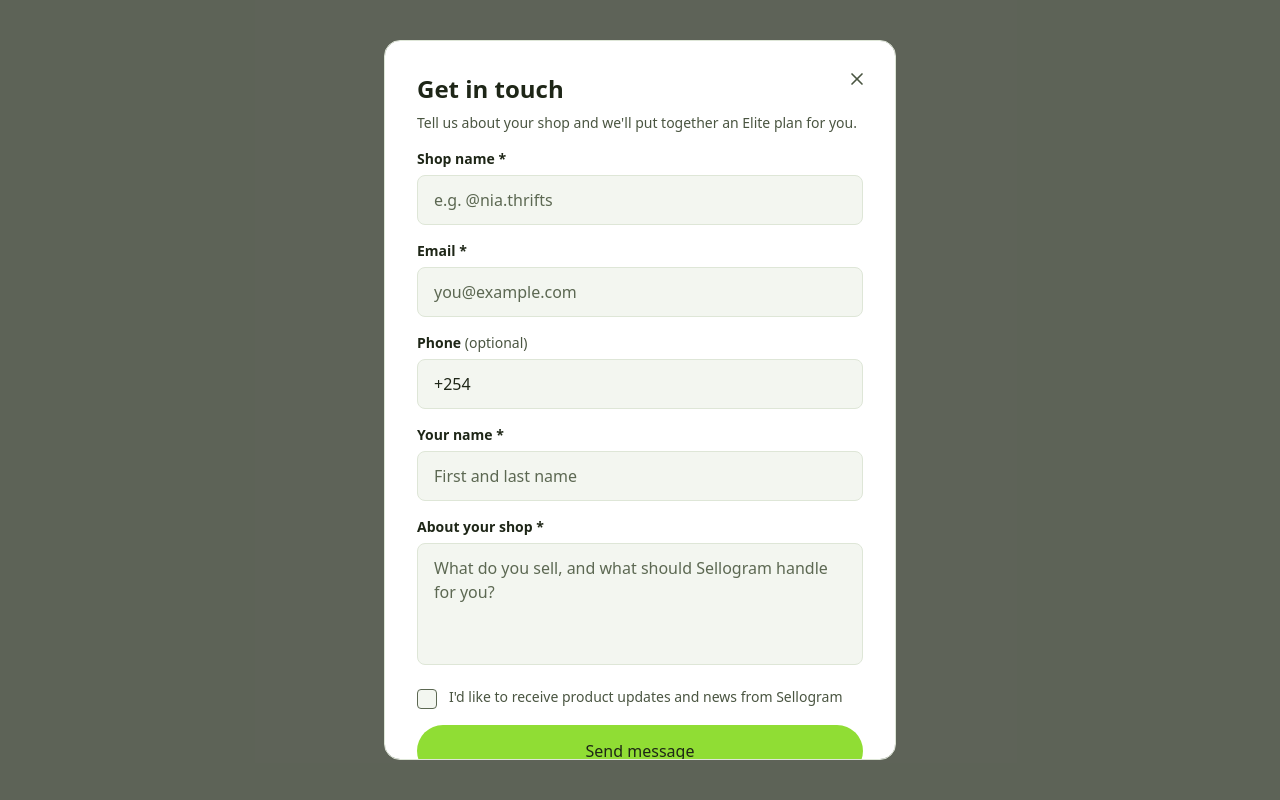
Test case: EliteContactModal › submits the inquiry and moves focus to the confirmation heading on success
Type "Nia Thrifts" into the field labelled "Shop name *" at (640, 200), box x1=417 y1=175 x2=863 y2=225
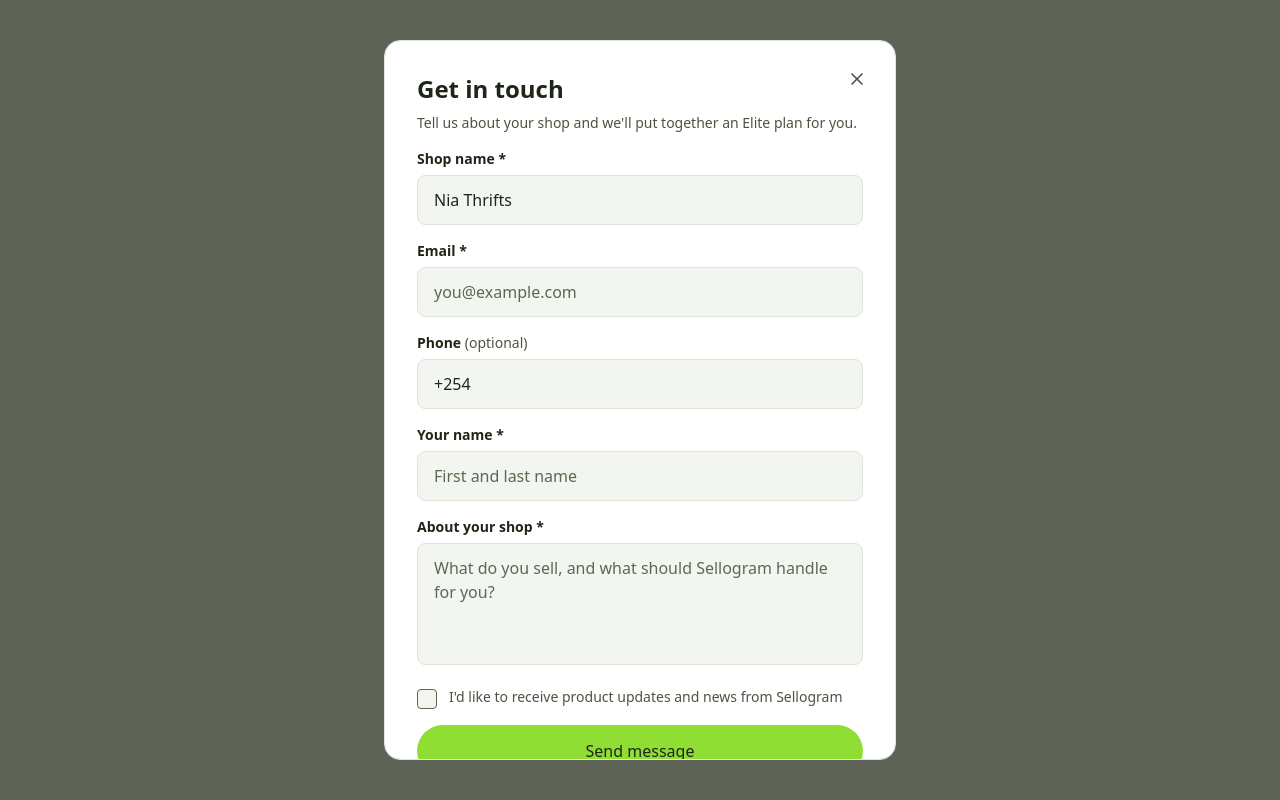
Type "nia@example.com" into the field labelled "Email *" at (640, 292), box x1=417 y1=267 x2=863 y2=317
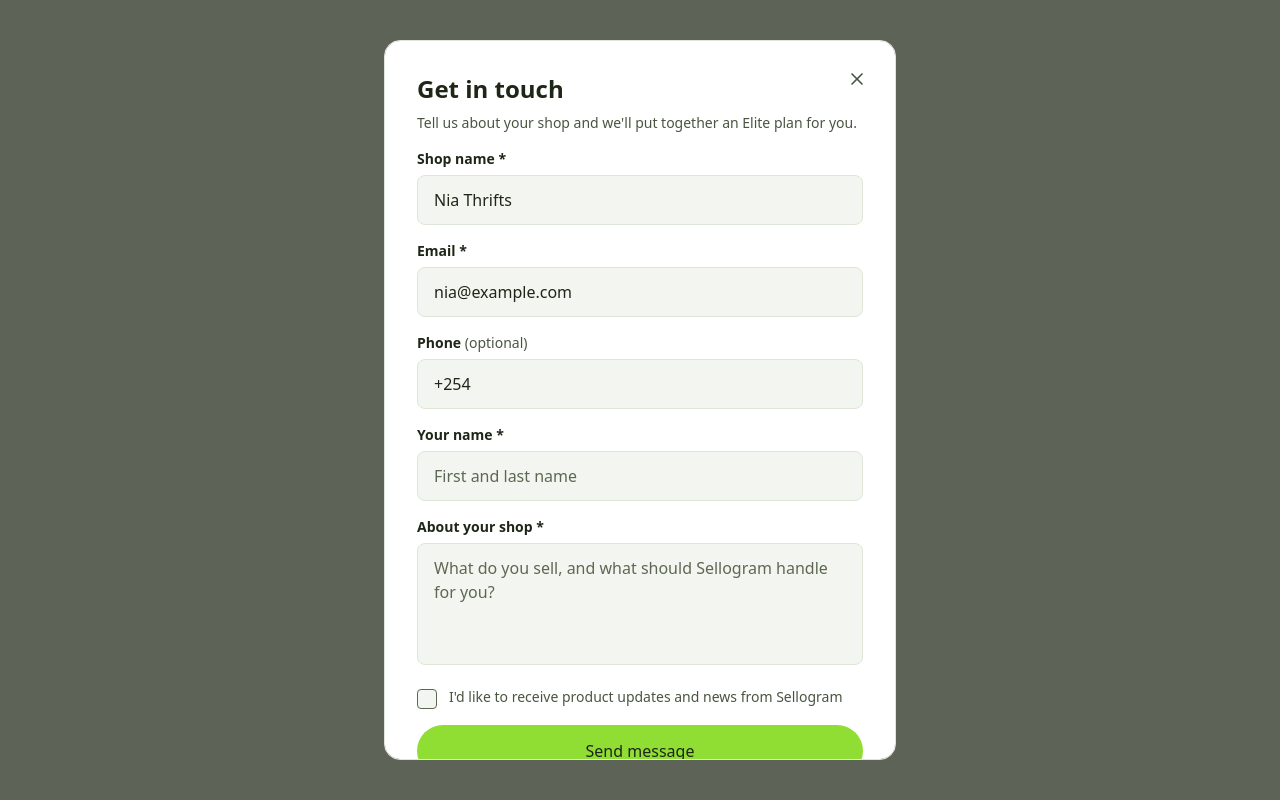
Type "Nia" into the field labelled "Your name *" at (640, 476), box x1=417 y1=451 x2=863 y2=501
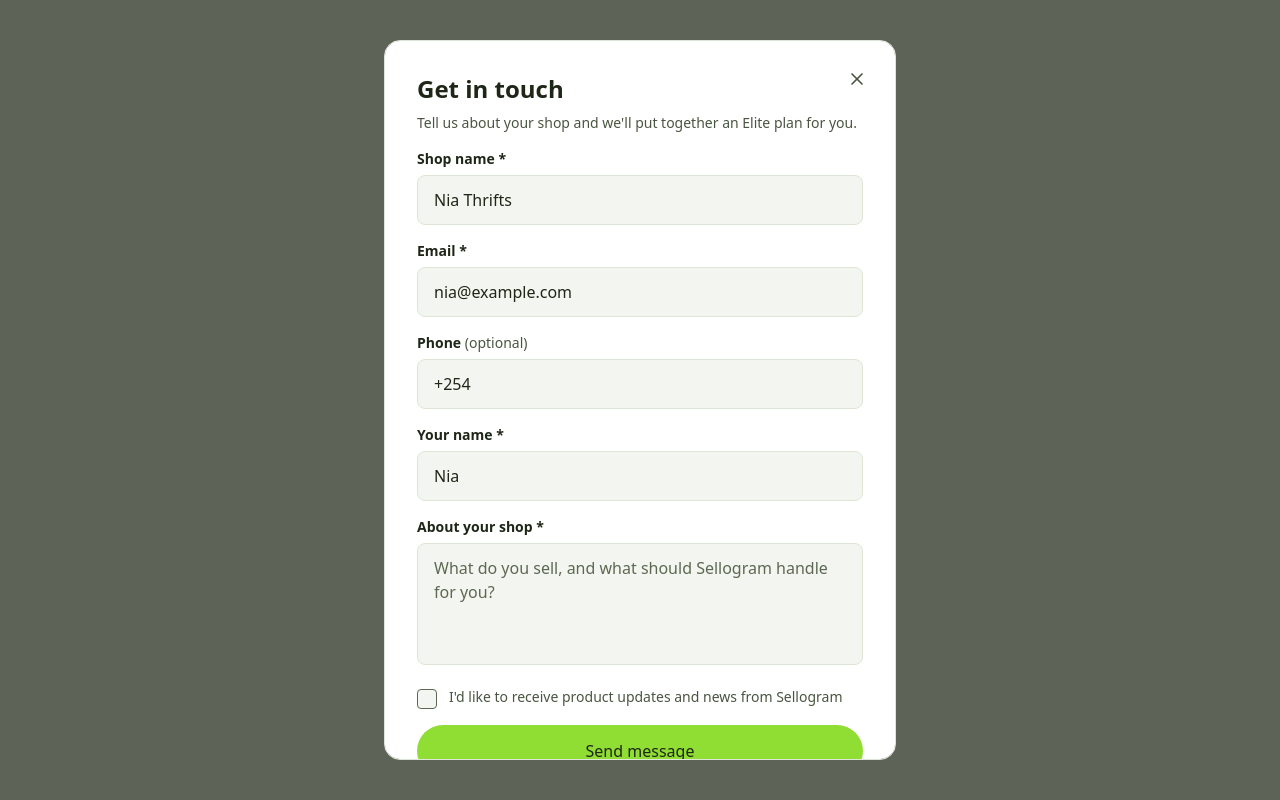
Type "Thrift fashion" into the text box labelled "About your shop *" at (640, 604), box x1=417 y1=543 x2=863 y2=665
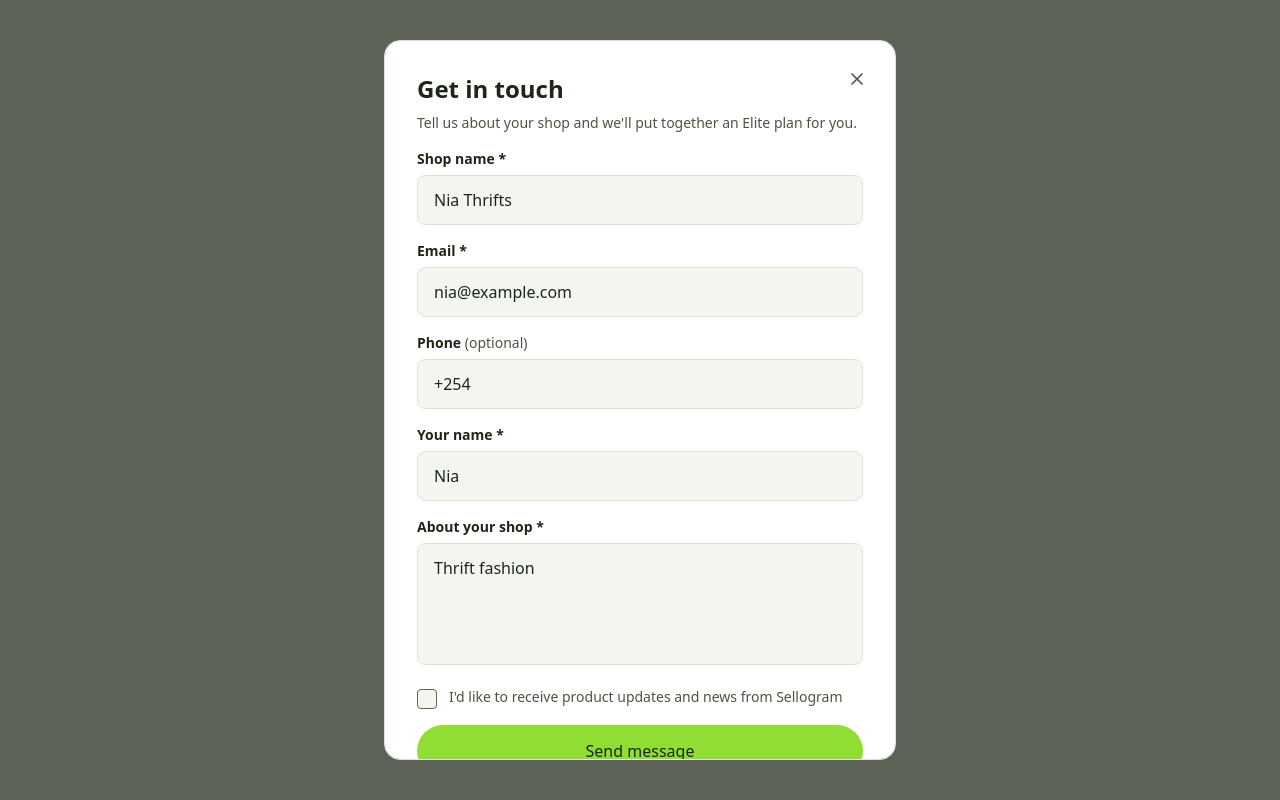
Click the button "Send message" at (640, 751), box x1=417 y1=725 x2=863 y2=777
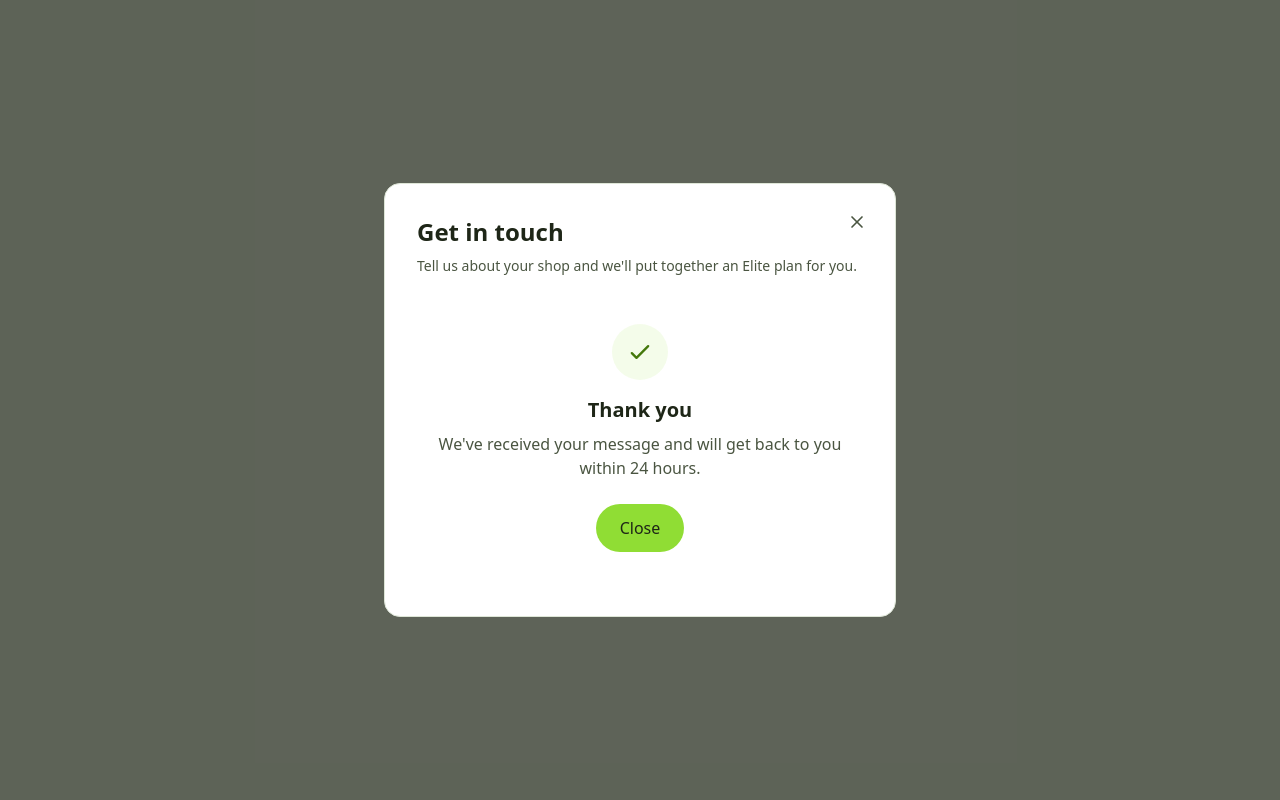
expect the message is shown: met, box x1=417 y1=292 x2=863 y2=584
expect the heading "Thank you" is shown: met, box x1=588 y1=396 x2=692 y2=423
